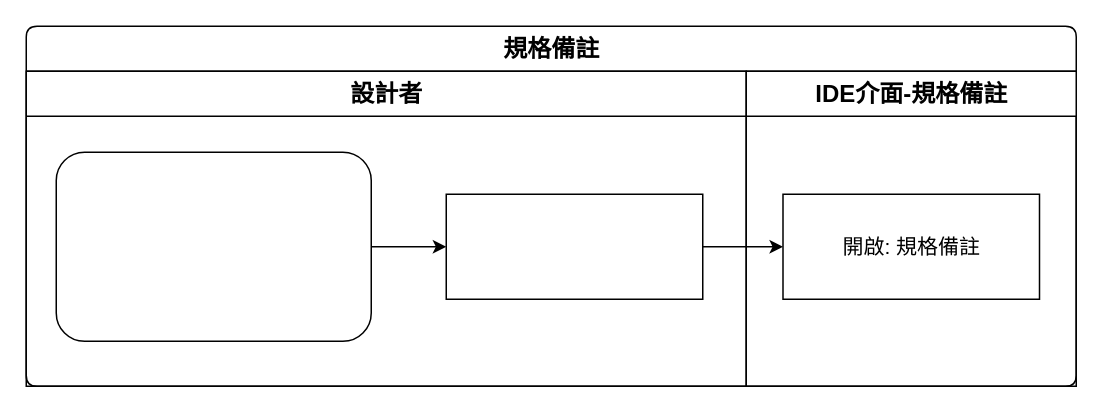
This 1103x413 diagram has some shape labels left out. The shapes that lost their labels are listed below. From the top down, each one's centre as x and y in pixels, then its label:
At [213,246]: "駐留下列節點項目: 報表名稱_報表成品料號、 基本設定、 資料來源、 分頁模式、 報表元件名稱_元件料號".
At [574,246]: "執行按鈕.規格備註".
